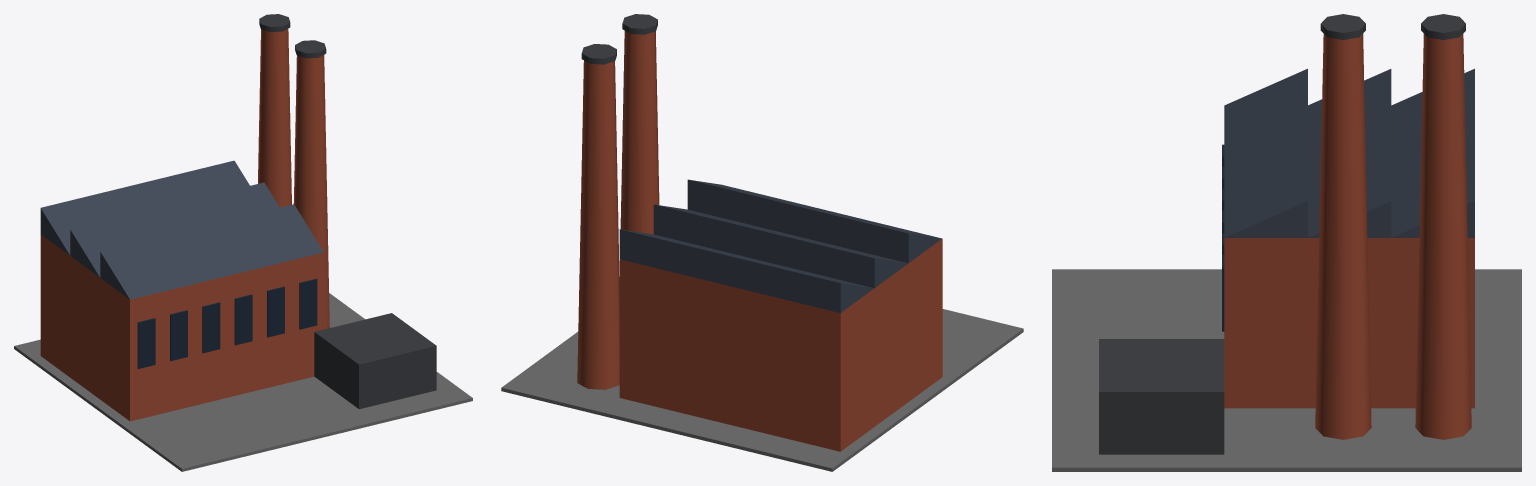
File: bld_special_power_plant_a05_lod1.glb
3 renders of one model, left to right at view 1: azimuth 30°, elevation 25°; view 2: azimuth 150°, elevation 25°; view 3: azimuth 270°, elevation 25°, orthographic. The views are drawn at different scales.
Parts seen in each view (by area): view 1: body; view 2: body; view 3: body.
Part boxes in pixels (x1,y1,x2,y2): body: (14,14,472,471); body: (501,14,1023,471); body: (1052,14,1521,471).
Bounding box in the file's own units: 15 × 14.4 × 15.
